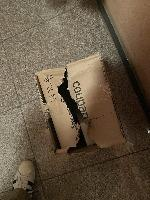damaged package: (34, 65, 100, 155)
undamaged: (30, 47, 130, 160)
